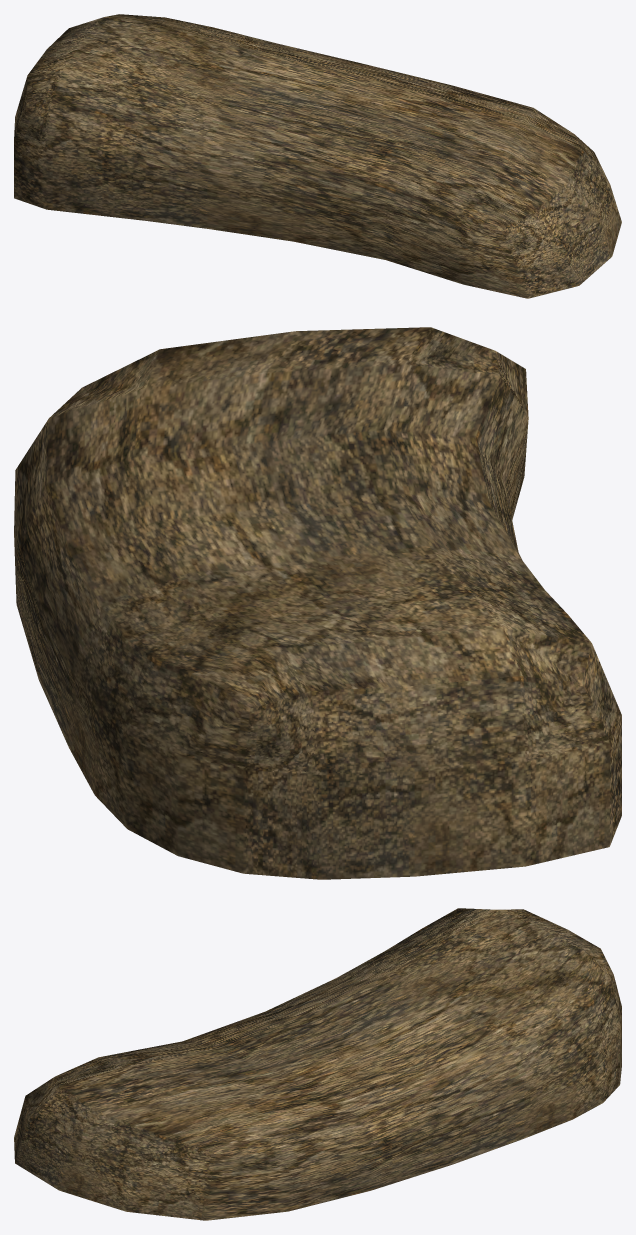
The model's file is CH09_SMAUG_PLAYSURFACE_LONELYMOUNTAIN_LM-STAIRS01.fbx.
3 renders of one model, top to bottom at view 1: azimuth 30°, elevation 25°; view 2: azimuth 150°, elevation 25°; view 3: azimuth 270°, elevation 25°, orthographic. The views are drawn at different scales.
Parts seen in each view (by area): view 1: CH09_SMAUG_PLAYSURFACE_LONELYMOUNTAIN_LM-STAIRS01; view 2: CH09_SMAUG_PLAYSURFACE_LONELYMOUNTAIN_LM-STAIRS01; view 3: CH09_SMAUG_PLAYSURFACE_LONELYMOUNTAIN_LM-STAIRS01.
Part boxes in pixels (left/top/right/bottom): CH09_SMAUG_PLAYSURFACE_LONELYMOUNTAIN_LM-STAIRS01: left=14, top=14, right=621, bottom=298; CH09_SMAUG_PLAYSURFACE_LONELYMOUNTAIN_LM-STAIRS01: left=14, top=327, right=621, bottom=879; CH09_SMAUG_PLAYSURFACE_LONELYMOUNTAIN_LM-STAIRS01: left=14, top=908, right=621, bottom=1220.
Bounding box in the file's own units: 143047 × 34276 × 164271.
1 material, 1 textured.
